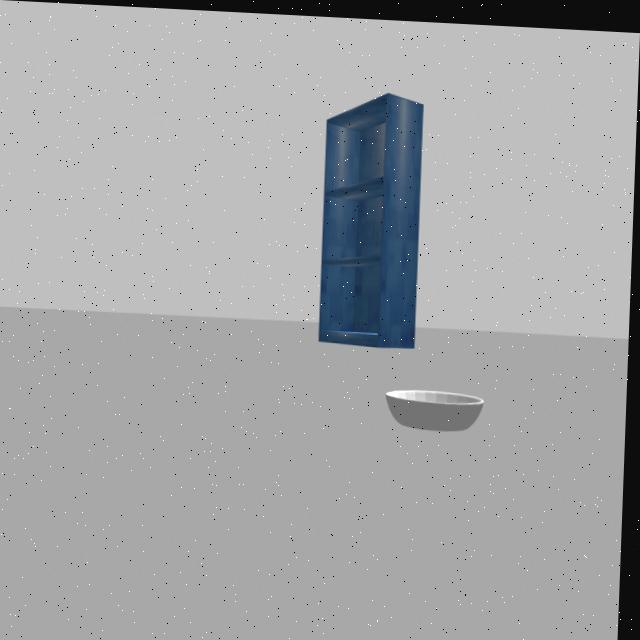bowl: (382, 365, 493, 446)
shelf: (311, 75, 440, 358)
